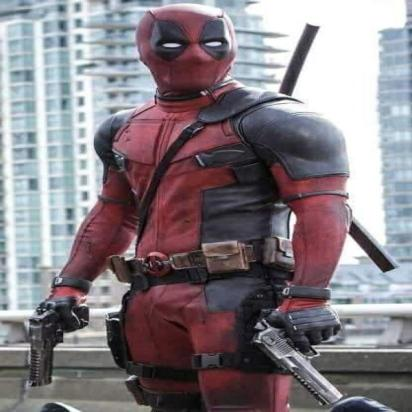Gun: (248, 316, 347, 409), (25, 301, 91, 388)
